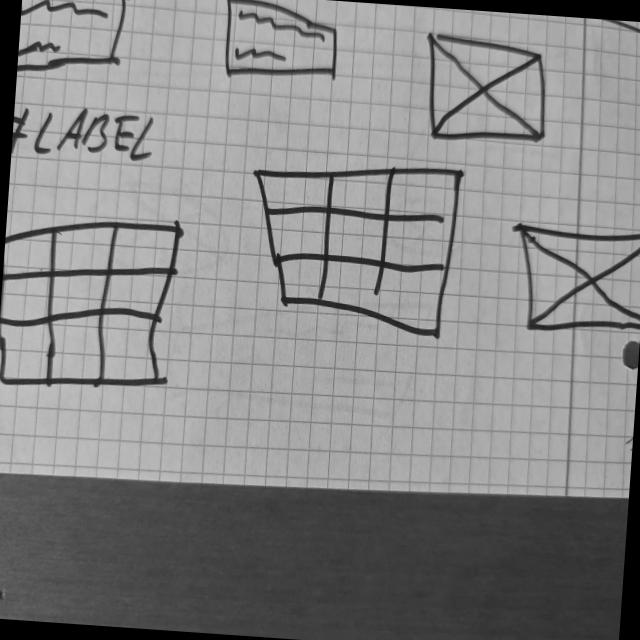image: (420, 28, 556, 150), (509, 216, 640, 341)
label: (10, 99, 156, 172)
table: (242, 152, 464, 340), (0, 211, 185, 398)
textarea: (218, 0, 343, 86), (16, 0, 129, 85)
